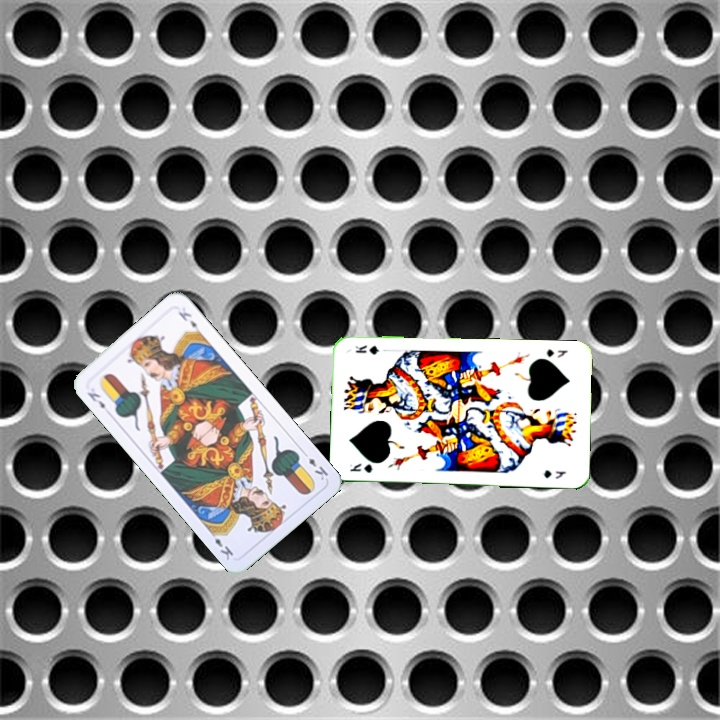EK: (298, 447, 331, 483), (83, 388, 108, 412)
GK: (346, 460, 375, 475), (543, 345, 570, 360)
